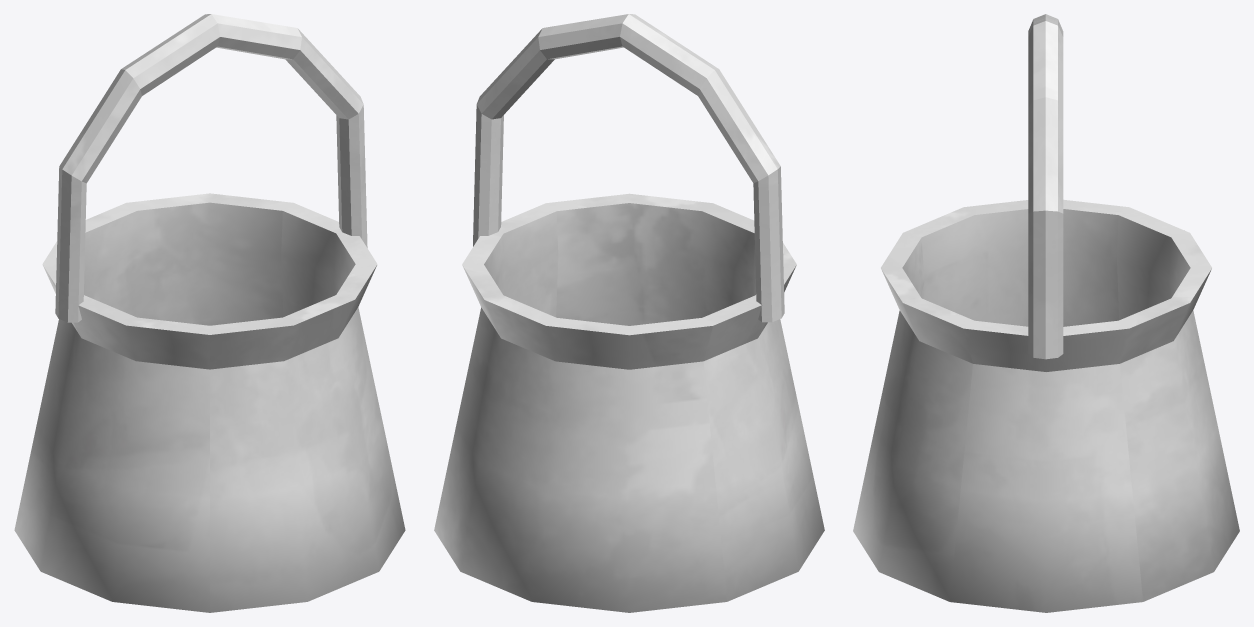
Rendered from pot_bronze.fbx.
The picture shows the model from 3 angles, left to right: view 1: azimuth 30°, elevation 25°; view 2: azimuth 150°, elevation 25°; view 3: azimuth 270°, elevation 25°; orthographic projection.
Visible parts, largest first — view 1: pot_bronze; view 2: pot_bronze; view 3: pot_bronze.
Boxes of the visible parts, x1=… form: pot_bronze: x1=14, y1=14, x2=405, y2=612; pot_bronze: x1=434, y1=14, x2=824, y2=612; pot_bronze: x1=853, y1=14, x2=1239, y2=612.
Size of the model in its own units: 0.7913 by 1.19 by 0.7913.
